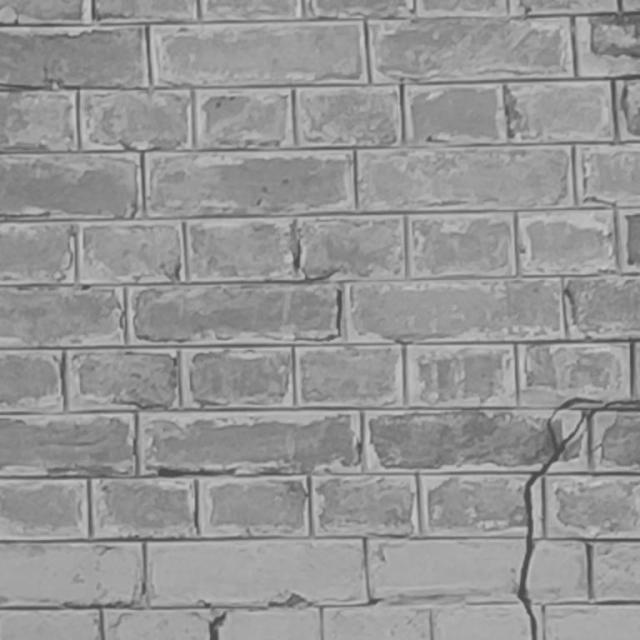crack: (516, 396, 639, 640)
